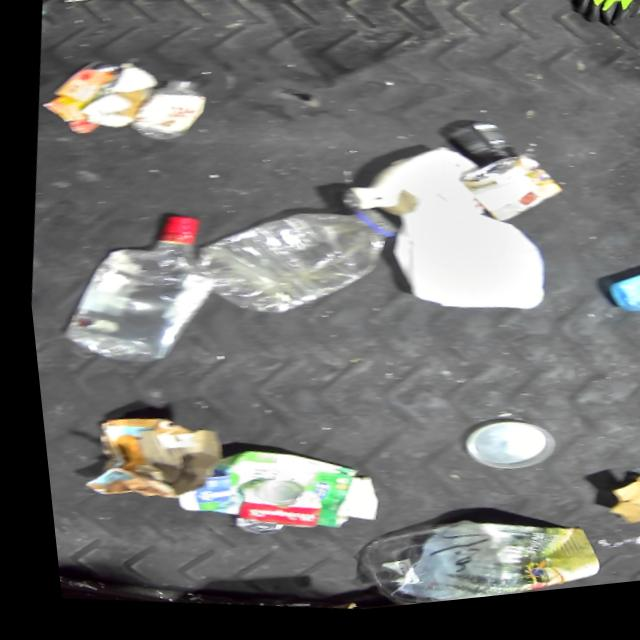can: (449, 153, 566, 245), (220, 474, 316, 540), (217, 512, 277, 545)
milk_jug: (370, 186, 553, 336)
plastic_bottle: (176, 188, 404, 344), (43, 199, 221, 382)
